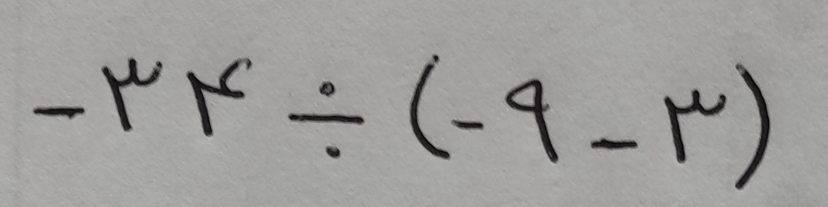character: (287, 78, 371, 161), (188, 53, 255, 138), (99, 53, 166, 134), (663, 89, 729, 164), (732, 63, 771, 188), (410, 52, 451, 164), (505, 77, 557, 165), (32, 102, 88, 121), (591, 137, 640, 149), (449, 116, 484, 130)
